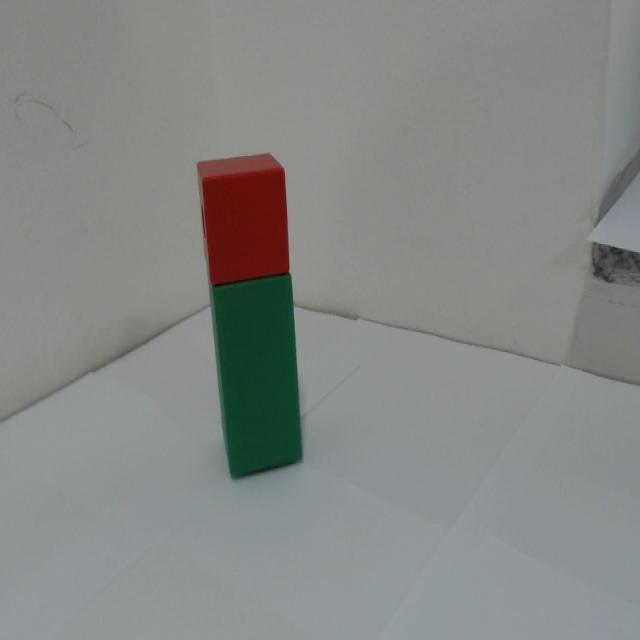cube: (187, 141, 308, 273)
